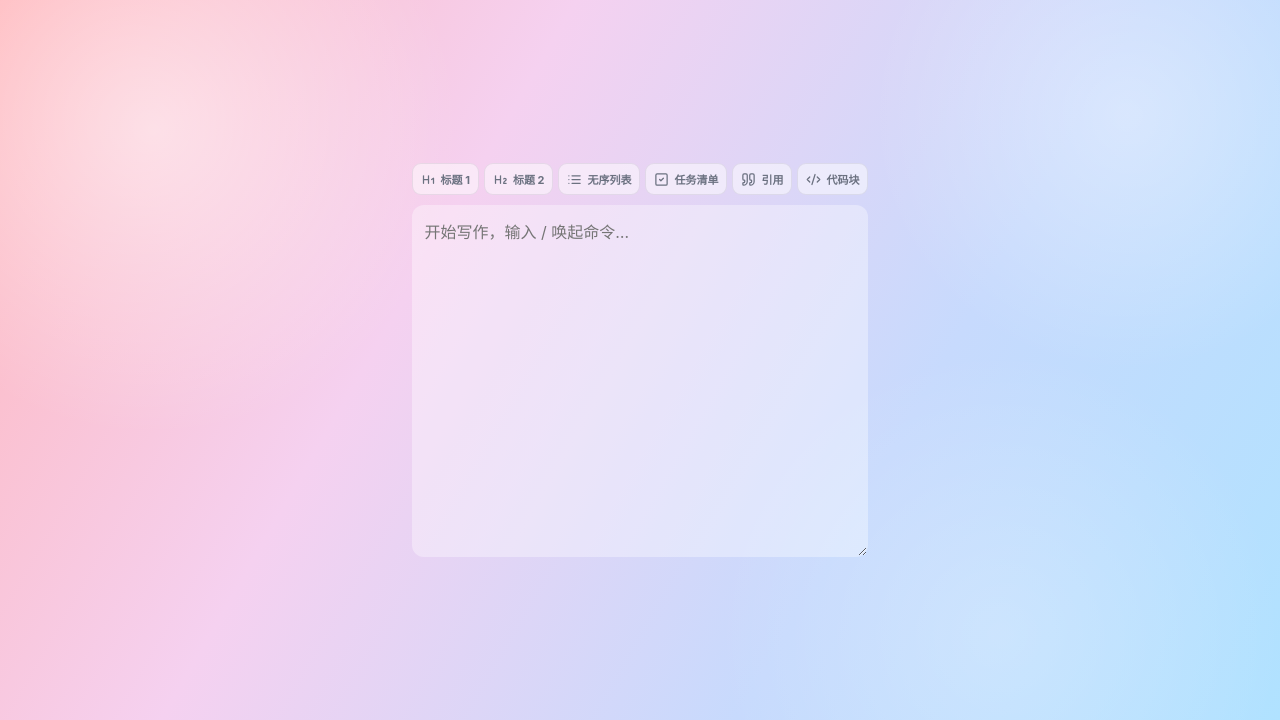
Test: NoteEditorSurface › opens slash commands and replaces the command text with a selected block
The image size is (1280, 720).
Type "/hea" into the text box named "笔记内容" at (640, 381), box [412, 205, 868, 557]
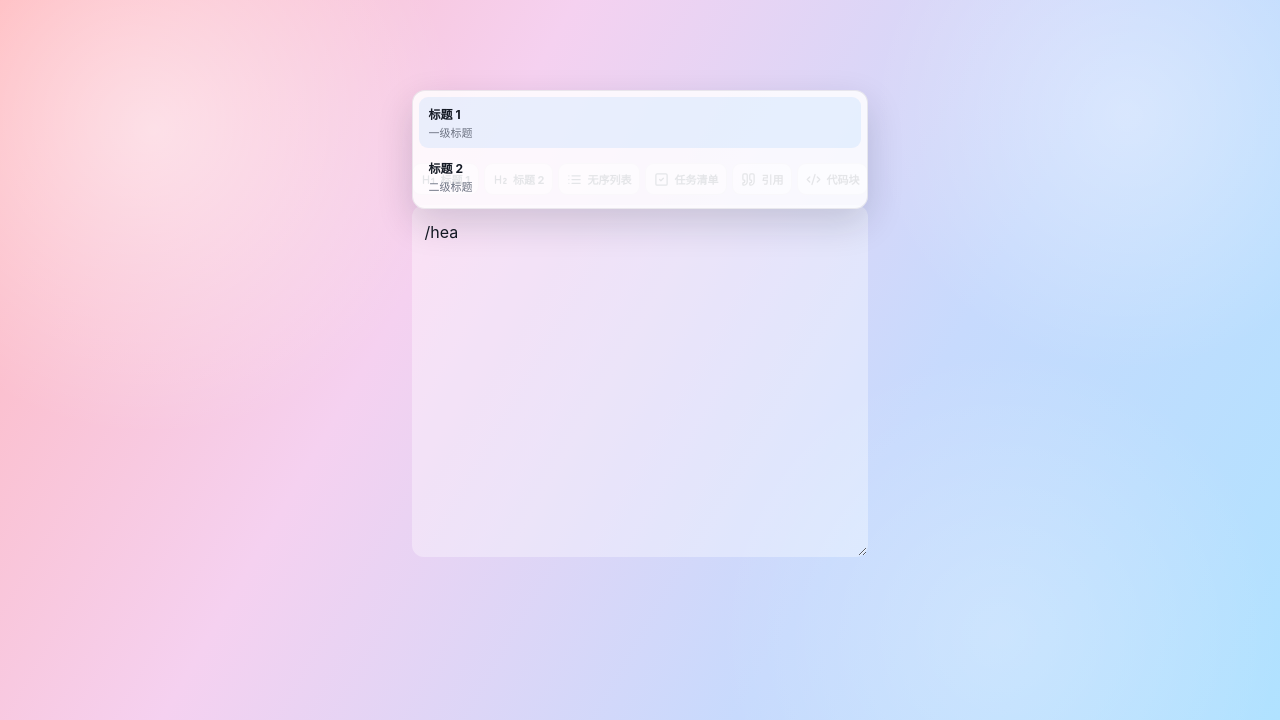
Check: the list named "斜杠命令" is shown, box [412, 90, 868, 209]
Check: the option "标题 1 一级标题" is shown, box [418, 97, 861, 148]
Press Enter in the text box named "笔记内容", box [412, 205, 868, 557]
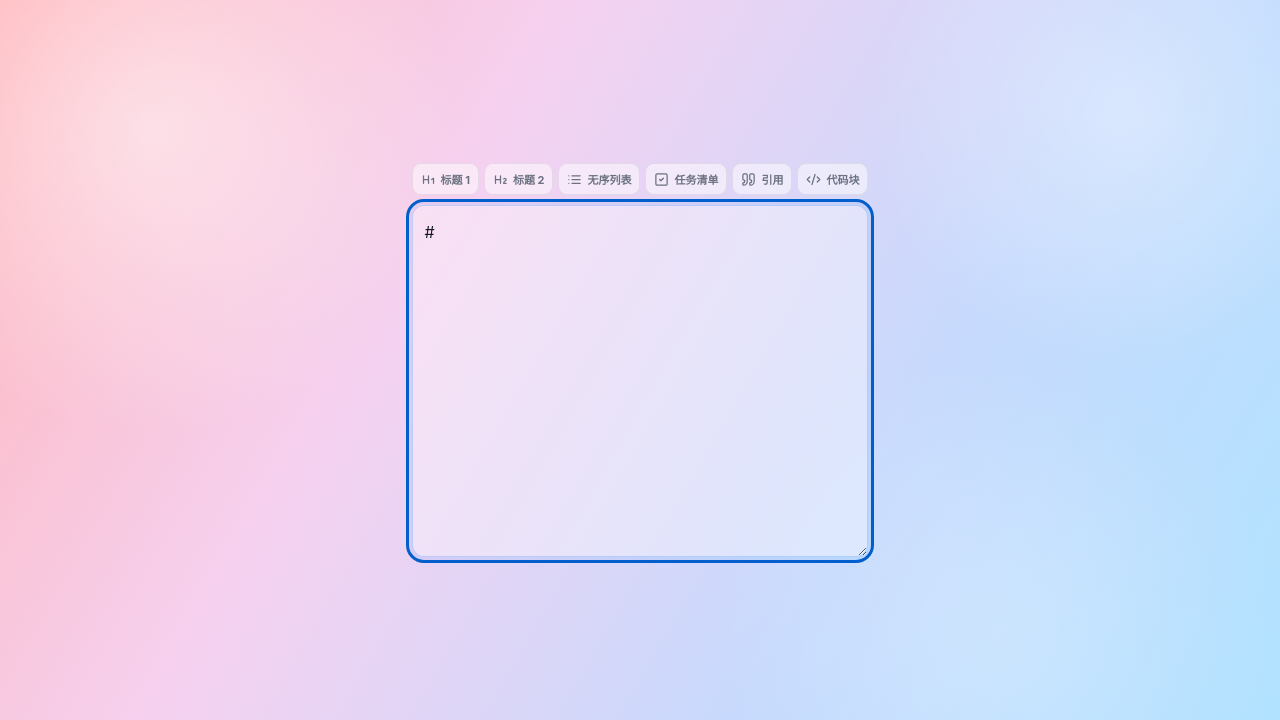
Check: the text box named "笔记内容" holds "# ", box [412, 205, 868, 557]
Check: the list "斜杠命令" is gone
